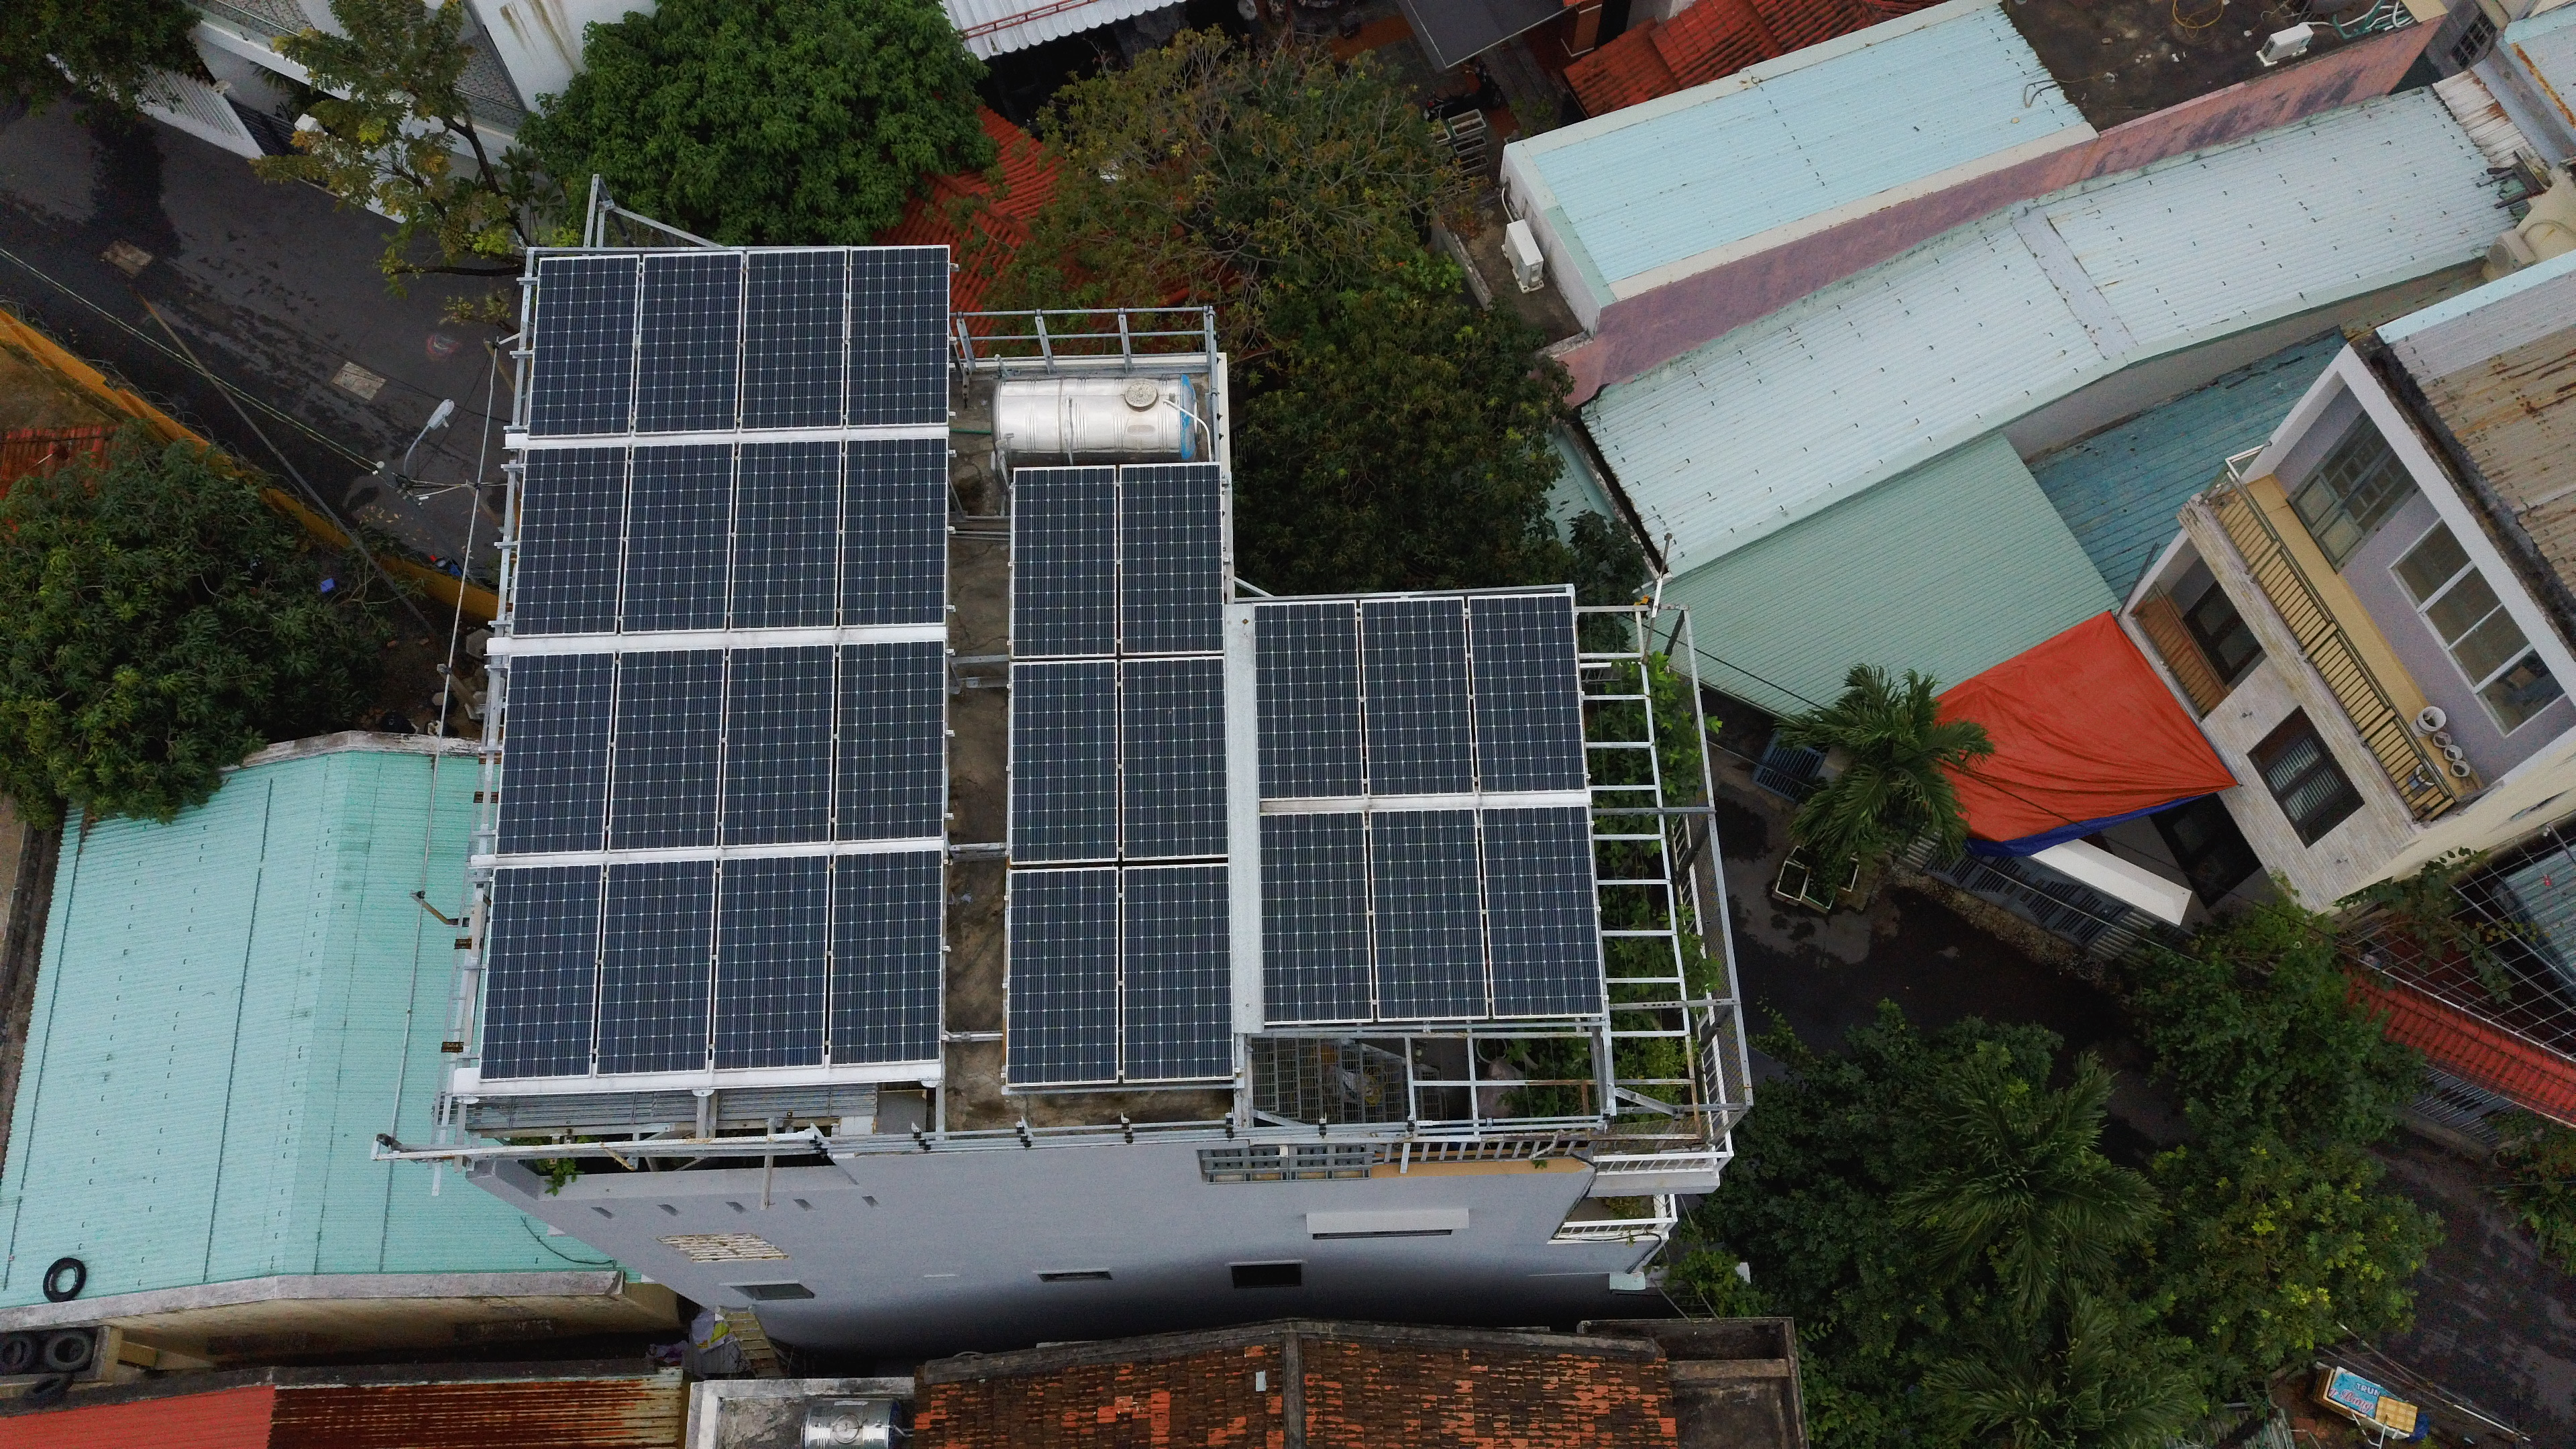solar: (1357, 801, 1497, 1026), (1458, 580, 1598, 805), (702, 847, 837, 1077), (586, 853, 720, 1083), (471, 856, 605, 1086), (1472, 801, 1610, 1024), (1253, 809, 1391, 1031), (824, 839, 952, 1074), (602, 639, 738, 858), (1115, 851, 1238, 1092), (1000, 853, 1123, 1092), (494, 642, 626, 860), (708, 633, 839, 853), (1003, 640, 1127, 867), (824, 632, 952, 851), (1240, 593, 1369, 809), (1102, 449, 1231, 665), (1108, 649, 1237, 865), (1355, 589, 1483, 803), (1005, 449, 1127, 671), (718, 430, 847, 639), (826, 425, 954, 633), (612, 435, 740, 644), (506, 435, 633, 644), (835, 237, 959, 435), (520, 248, 644, 444), (732, 242, 855, 441), (628, 246, 750, 444)
